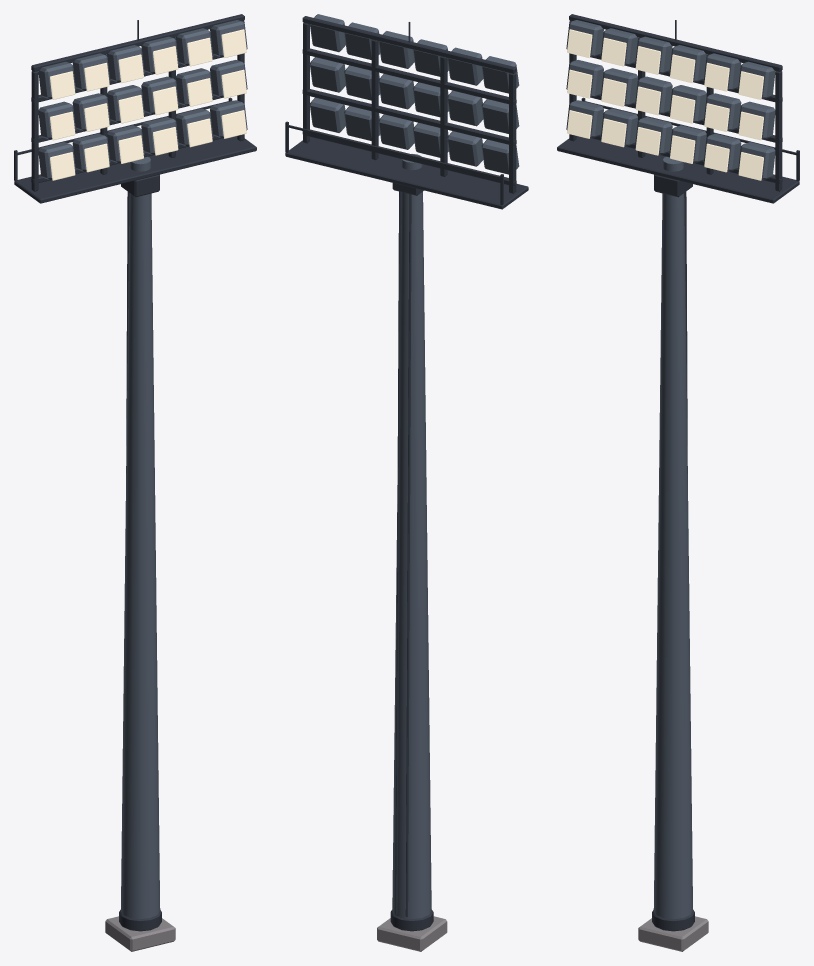
Rendered from light_tower.glb.
3 views of the same model, side by side, from view 1: azimuth 30°, elevation 25°; view 2: azimuth 150°, elevation 25°; view 3: azimuth 330°, elevation 25° (orthographic).
Visible parts, largest first — view 1: light_tower; view 2: light_tower; view 3: light_tower.
Boxes of the visible parts, box(x1,y1,x2,y2) form: light_tower: box(14, 14, 256, 951); light_tower: box(285, 14, 528, 951); light_tower: box(557, 14, 799, 951).
Size of the model in its own units: 7.45 by 30 by 1.86.
Materials: 2 (2 with a texture image).
